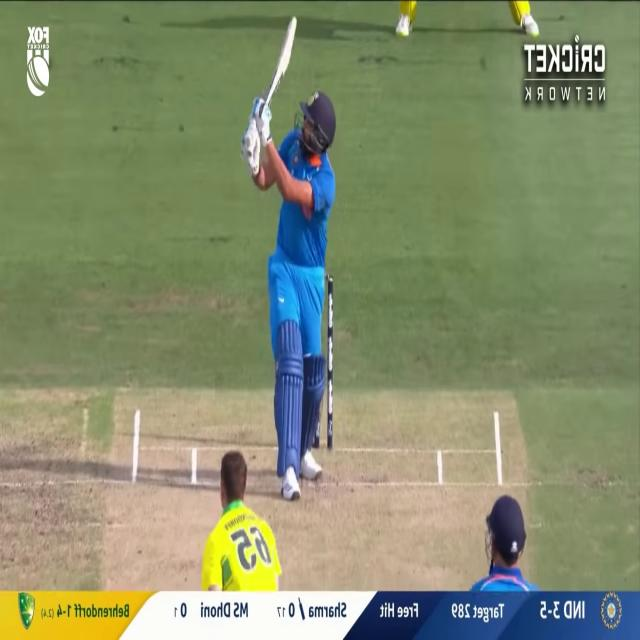stump: (313, 283, 334, 457)
